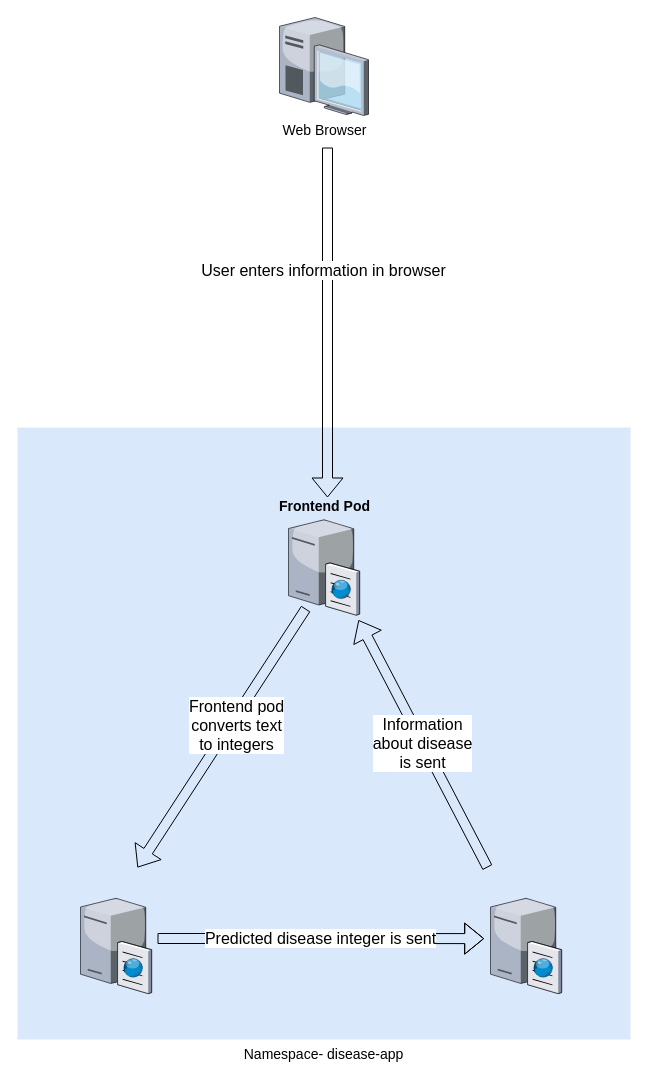
Some shapes in this 647 by 1080 pixel diagram are drawn without their labels. Each missing label, with the centre of its shape:
"Database Pod" goes at [525,944].
"Prediction Pod" goes at [115,944].
